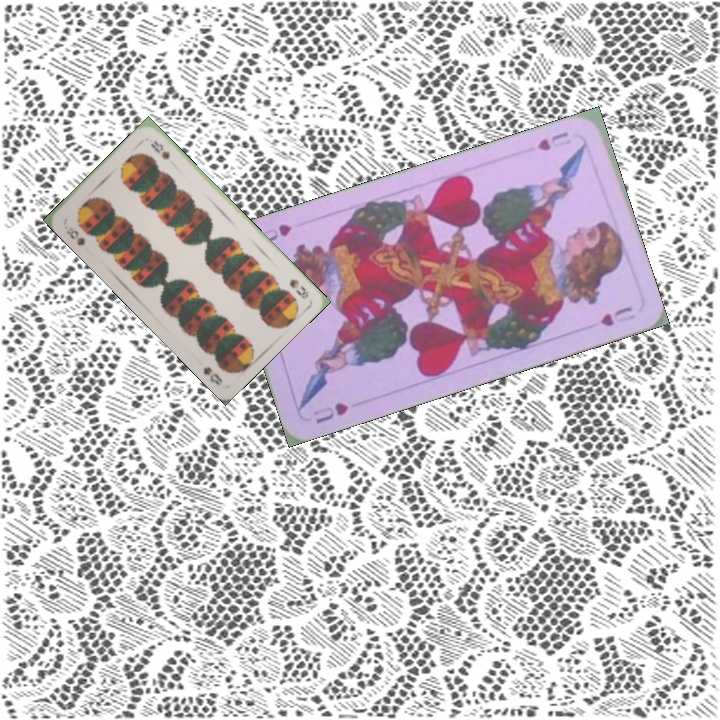HU: (311, 398, 351, 426), (533, 128, 574, 154)
S8: (285, 274, 311, 301), (62, 223, 88, 248)
